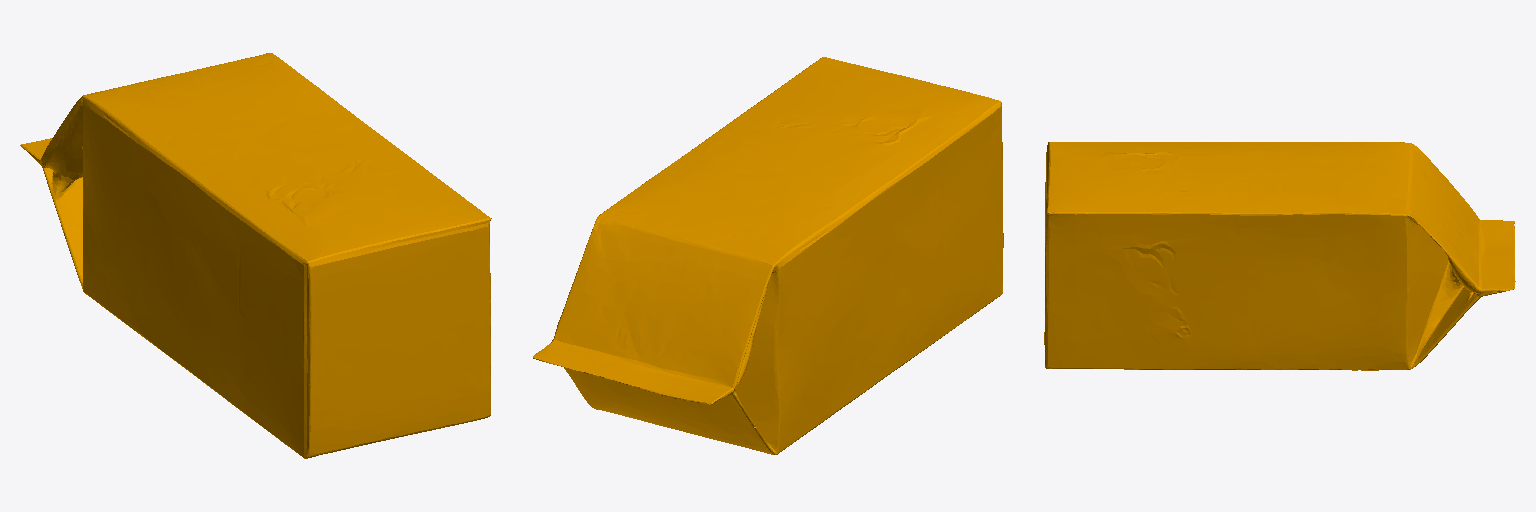
robot.urdf — milk:
<?xml version="1.0"?>
<!-- GENERATED by tasks/libero/build_env/build_object_urdf.py. Do not hand edit.

     LIBERO object `milk`, spawnable by the TRO-MP env.
     Role: graspable target object (envs/), one of the 22 LIBERO target assets.

     WHY a URDF when envs/milk/ may also hold a USD: this env spawns objects
     only through `assets.object_urdf` (scene_utils.py:1929, which calls
     _convert_urdf_to_usd at :1964). The assets dataclass declares no USD field,
     so a ready-made USD cannot be handed to this code path.

     Mesh coordinates are PRESERVED, not re-centred: 11 of 22 LIBERO envs have
     their mesh origin at the object's base, and `goal_traj` tracks that origin.
     Re-centring would offset the object from its own trajectory every frame.

     Mass: density 800.0 kg/m^3 x mesh volume 3.359400e-04 m^3
     Inertia: solid-box approximation about the COM at that mass, NOT the true
     mesh inertia tensor. Adequate for a graspable tabletop object; revisit if
     spin dynamics matter.

     Collision: the full mesh, decomposed by Isaac's URDF importer. The convex
     decomposition authored in the DexVerse USD is NOT reproduced here.
-->
<robot name="milk">
  <link name="milk">
    <inertial>
      <origin xyz="-0.000486 -0.010920 0.000231" rpy="0 0 0"/>
      <mass value="0.268752"/>
      <inertia ixx="5.241096e-04" ixy="0" ixz="0" iyy="1.332039e-04" iyz="0" izz="5.220807e-04"/>
    </inertial>
    <visual>
      <origin xyz="0 0 0" rpy="0 0 0"/>
      <geometry><mesh filename="milk.obj" scale="1 1 1"/></geometry>
    </visual>
    <collision>
      <origin xyz="0 0 0" rpy="0 0 0"/>
      <geometry><mesh filename="milk.obj" scale="1 1 1"/></geometry>
    </collision>
  </link>
</robot>

--- What the picture shows (computed from the rendered views, not written in the file) ---
3 views of the same robot in one strip: view 1: azimuth 30°, elevation 25°; view 2: azimuth 150°, elevation 25°; view 3: azimuth 270°, elevation 25° (orthographic).
Robot: milk — 1 links, 0 joints (none); root link milk; default pose: every joint at zero.
Visible links, largest first — view 1: milk; view 2: milk; view 3: milk.
Boxes of the visible links, x1=… form: milk: x1=20, y1=53, x2=491, y2=458; milk: x1=533, y1=57, x2=1003, y2=454; milk: x1=1044, y1=142, x2=1515, y2=370.
Size in the robot's own frame: 0.0541 by 0.1428 by 0.0549 metres.
1 mesh visuals loaded from 1 distinct referenced files (1 OBJ).
